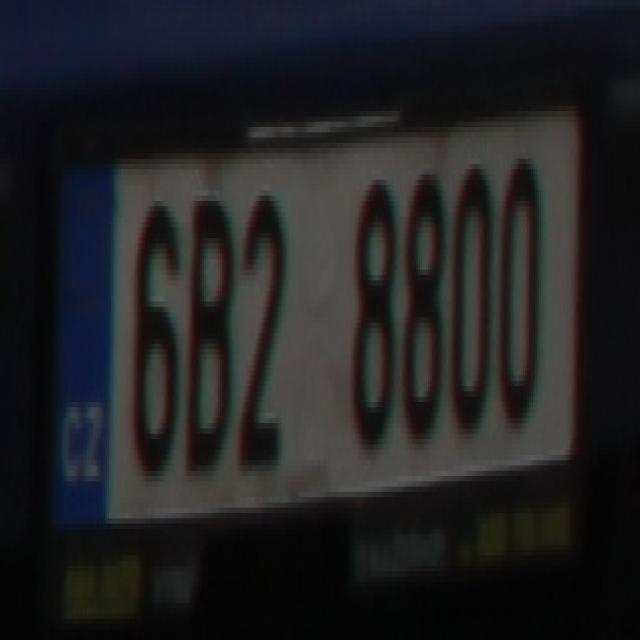0: (442, 138, 491, 423), (497, 148, 543, 418)
2: (234, 190, 285, 466)
6: (129, 196, 178, 481)
8: (347, 164, 396, 450), (404, 169, 446, 439)
B: (184, 185, 236, 476)
